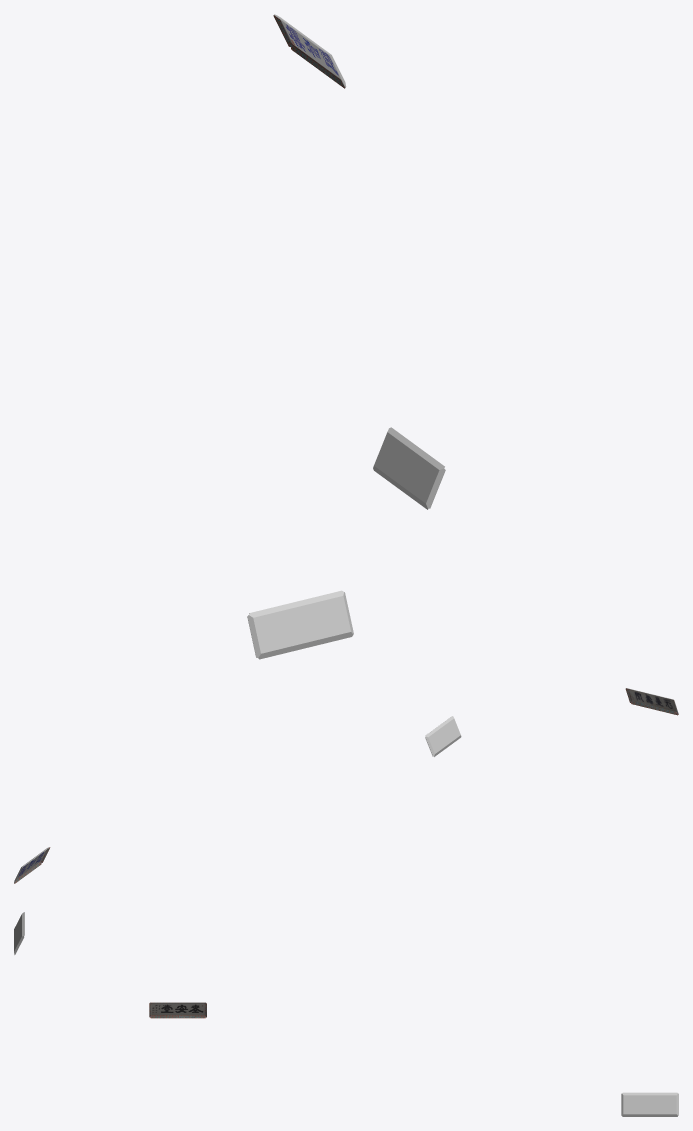
The model's file is SM_Unhyun_Noan_Hyunpan_A001.fbx.
The picture shows the model from 3 angles, top to bottom: view 1: azimuth 30°, elevation 25°; view 2: azimuth 150°, elevation 25°; view 3: azimuth 270°, elevation 25°; orthographic projection. The views are drawn at different scales.
Parts seen in each view (by area): view 1: SM_Unhyun_Noan_Hyunpan_A001; view 2: SM_Unhyun_Noan_Hyunpan_A001; view 3: SM_Unhyun_Noan_Hyunpan_A001.
Part boxes in pixels (left/top/right/bottom): SM_Unhyun_Noan_Hyunpan_A001: left=247, top=14, right=445, bottom=659; SM_Unhyun_Noan_Hyunpan_A001: left=14, top=688, right=678, bottom=883; SM_Unhyun_Noan_Hyunpan_A001: left=14, top=912, right=678, bottom=1116.
Size of the model in its own units: 904 by 86.7 by 1488.
